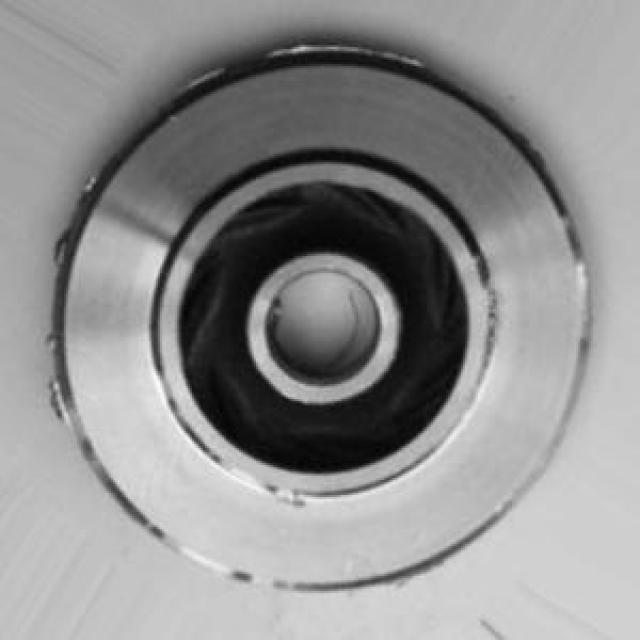Defect: (296, 29, 354, 65)
